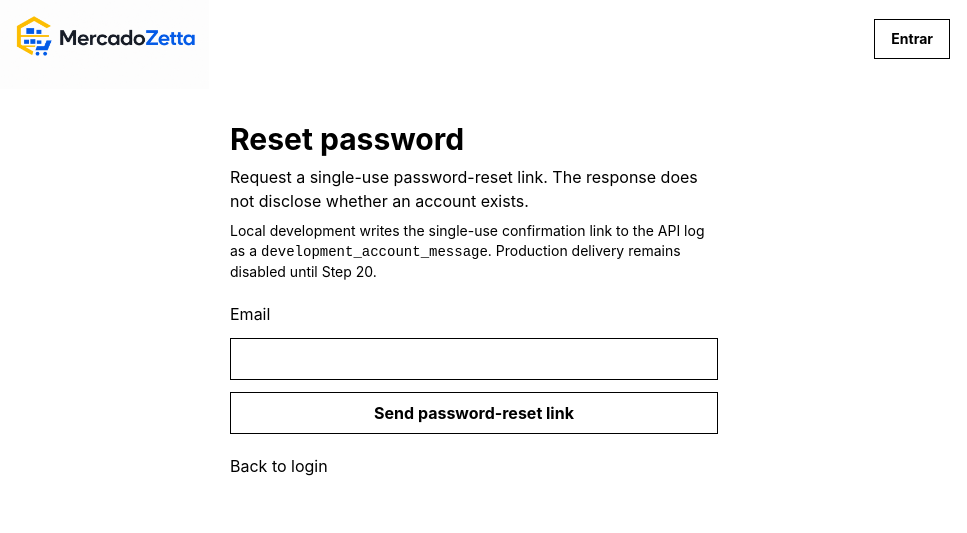
Test: account recovery and verification workflow › keeps the email available when a delivery request fails
The width and height of the screenshot is (967, 533).
Step 1. Type "buyer@example.com" into the field labelled "Email" → (474,359), box [230,338,718,380]
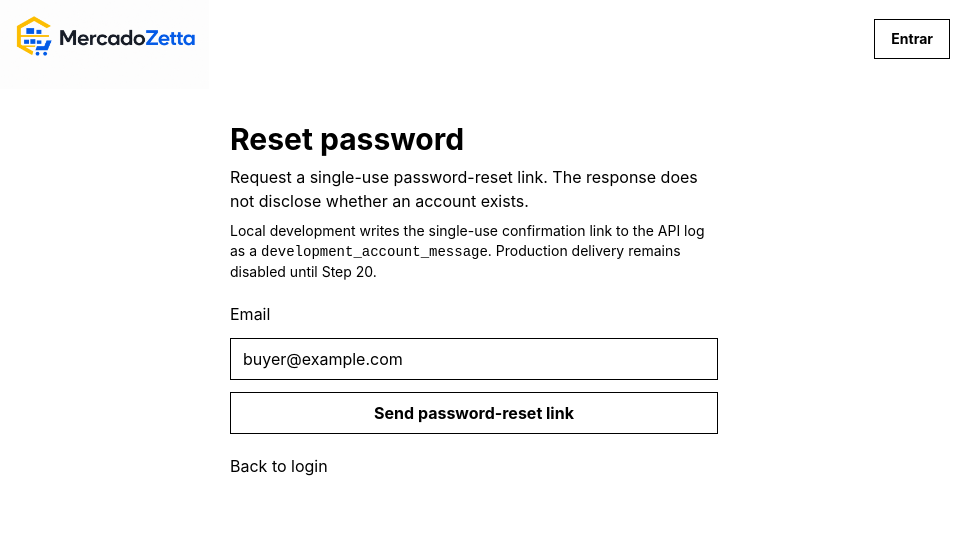
Step 2. Click the button "Send password-reset link" → (474,413), box [230,392,718,434]
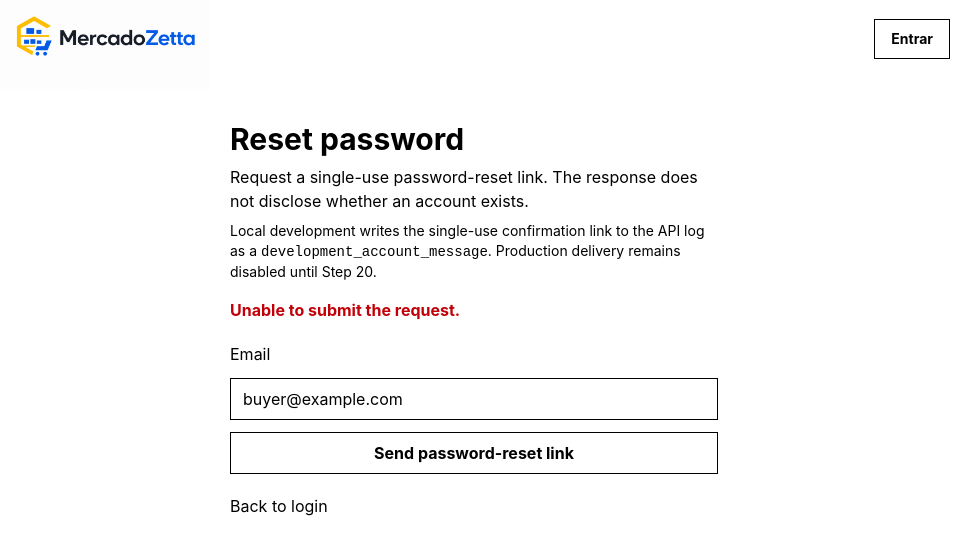
Expected: the message reads "Unable to submit the request.", [230,300,460,320]
